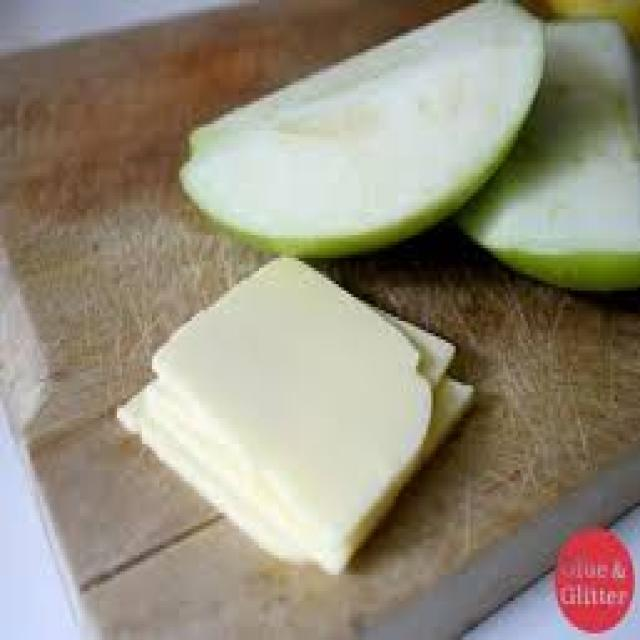cheese: (113, 246, 467, 569)
